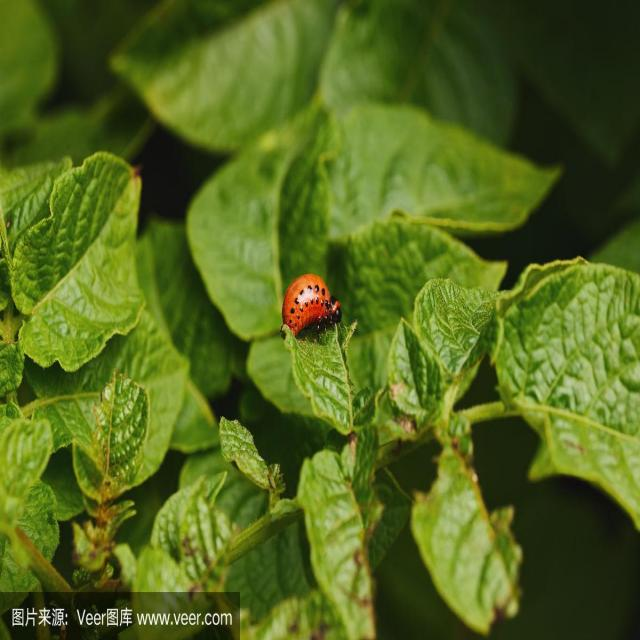ShuCaiHuaBanChong-Larva-: (270, 266, 366, 381)
